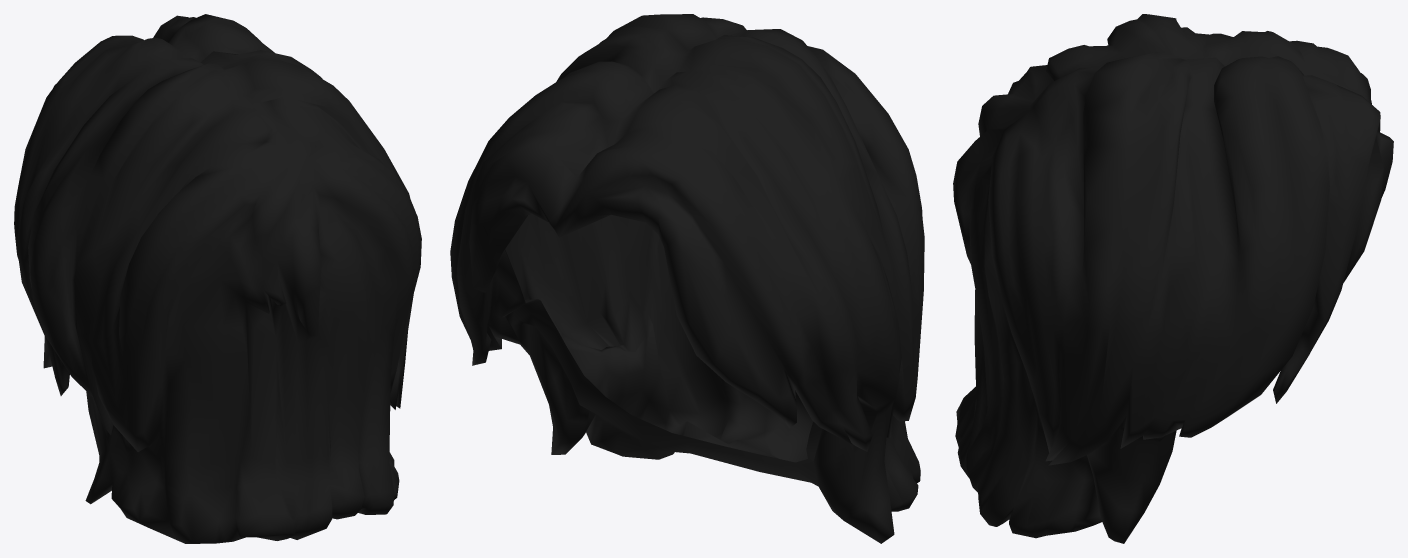
Rendered from hairStyle3.glb.
3 views of the same model, side by side, from view 1: azimuth 30°, elevation 25°; view 2: azimuth 150°, elevation 25°; view 3: azimuth 270°, elevation 25° (orthographic). The views are drawn at different scales.
Visible parts, largest first — view 1: longHair; view 2: longHair; view 3: longHair.
Part boxes in pixels (x1,y1,x2,y2): longHair: (14,14,421,543); longHair: (450,14,924,543); longHair: (953,14,1393,543).
Size of the model in its own units: 0.2039 by 0.2375 by 0.21.
Materials: 1 (1 with a texture image).
